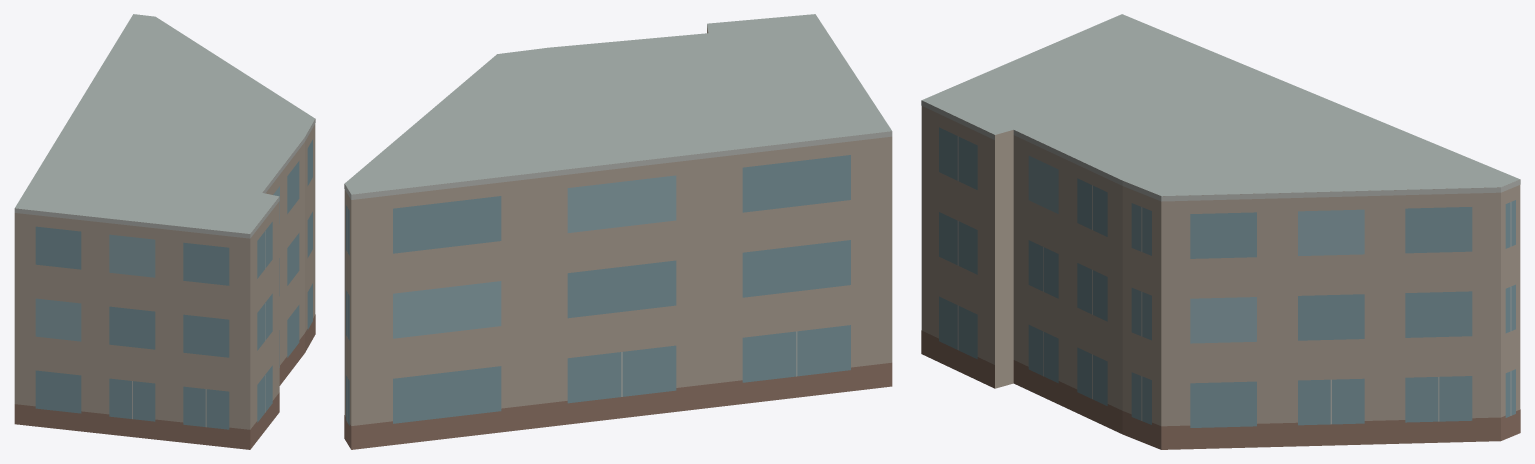
File: survey-upis-32839431.glb
3 views of the same model, side by side, from view 1: azimuth 30°, elevation 25°; view 2: azimuth 150°, elevation 25°; view 3: azimuth 270°, elevation 25° (orthographic). The views are drawn at different scales.
Visible parts, largest first — view 1: survey-upis-32839431.tmp; view 2: survey-upis-32839431.tmp; view 3: survey-upis-32839431.tmp.
Boxes of the visible parts, left/top/right/bottom form: survey-upis-32839431.tmp: left=14, top=14, right=315, bottom=449; survey-upis-32839431.tmp: left=344, top=14, right=892, bottom=449; survey-upis-32839431.tmp: left=921, top=14, right=1520, bottom=449.
Bounding box in the file's own units: 17.87 × 11.6 × 24.82.
